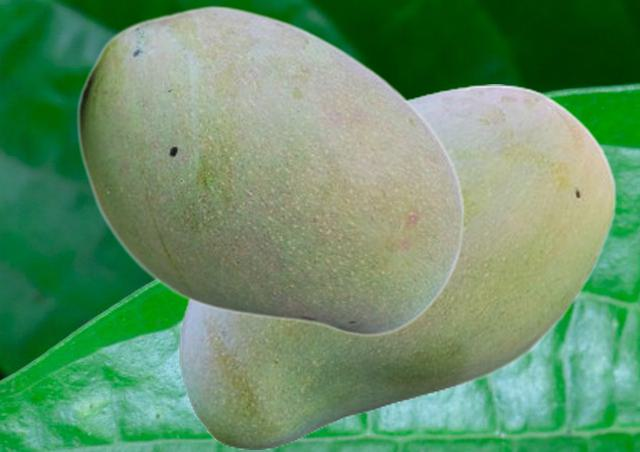green_mango: (178, 84, 616, 448), (76, 4, 464, 336)
